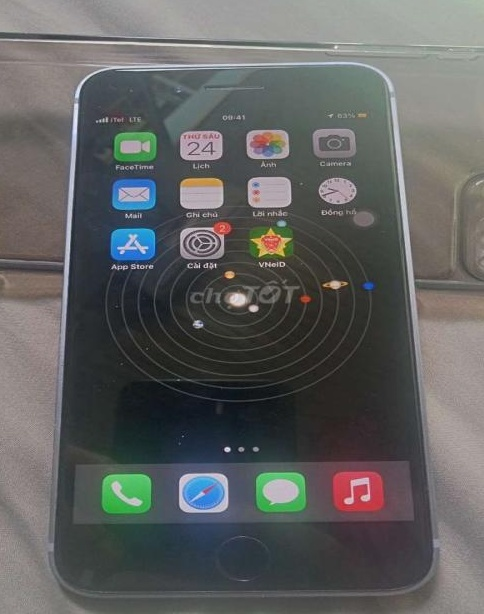scratch: (83, 281, 187, 386), (169, 427, 188, 449), (117, 79, 136, 93)
